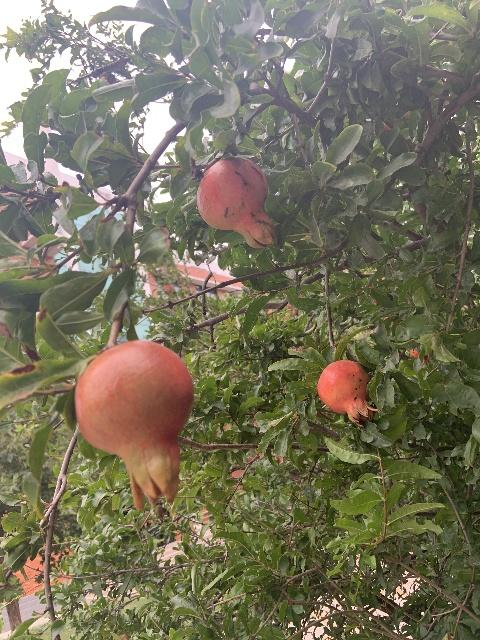ripe: (73, 340, 194, 510), (196, 156, 274, 247), (317, 359, 376, 427)
